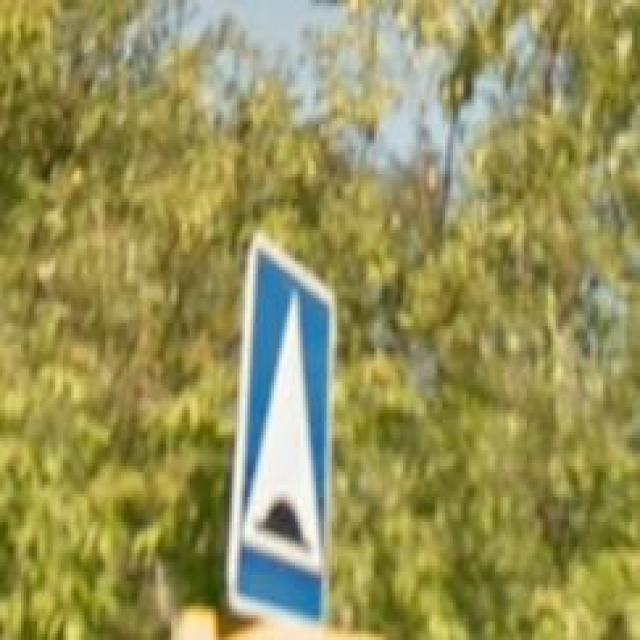traffic_sign: (227, 233, 337, 631)
